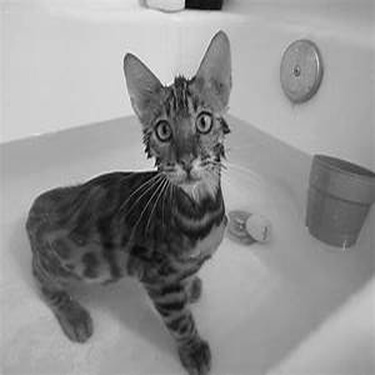cat: (14, 28, 233, 372)
